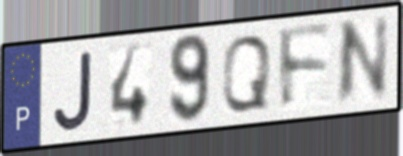4: (108, 41, 154, 129)
9: (166, 31, 212, 128)
F: (276, 22, 335, 115)
J: (51, 48, 95, 133)
N: (333, 12, 391, 110)
Q: (219, 32, 274, 115)
